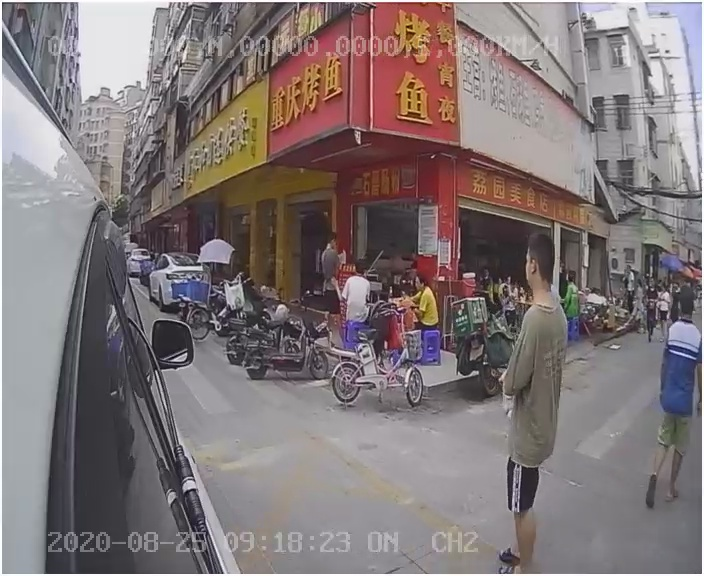person: (487, 232, 583, 542)
